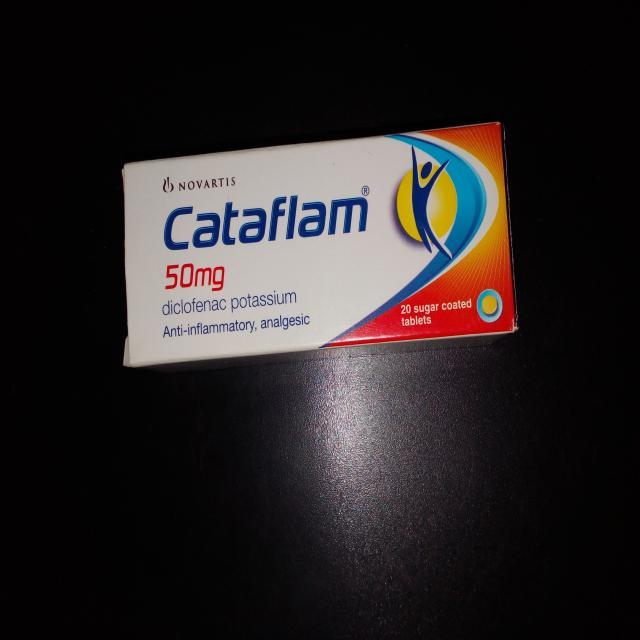Medicine: (120, 115, 519, 369)
